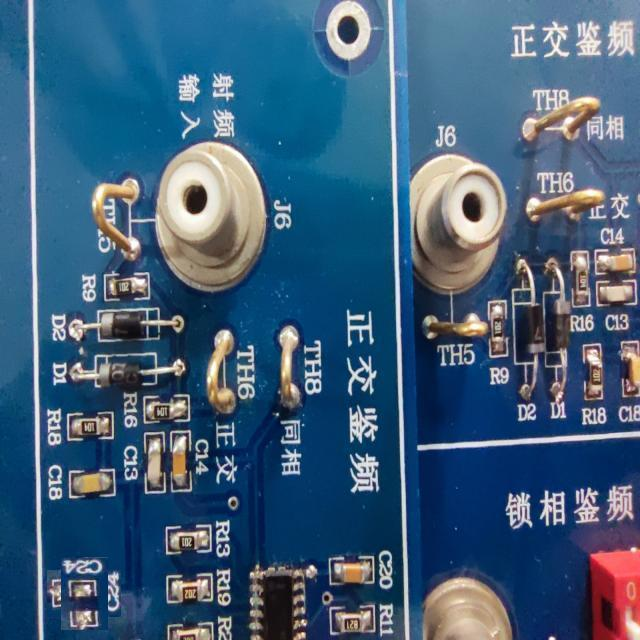miss_welding: (54, 563, 115, 624)
